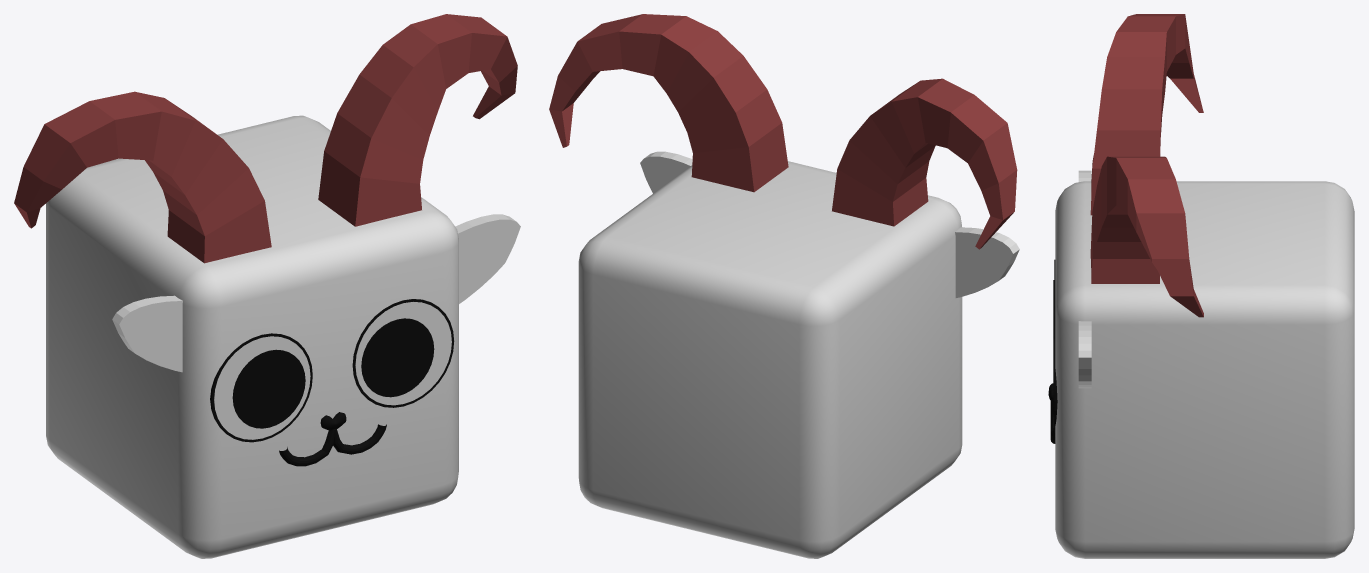
The model's file is SnowRam.fbx.
The picture shows the model from 3 angles, left to right: view 1: azimuth 30°, elevation 25°; view 2: azimuth 150°, elevation 25°; view 3: azimuth 270°, elevation 25°; orthographic projection. The views are drawn at different scales.
Parts seen in each view (by area): view 1: SnowRam; view 2: SnowRam; view 3: SnowRam.
Boxes of the visible parts, bbox=[...] form: SnowRam: bbox=[14, 14, 520, 558]; SnowRam: bbox=[549, 14, 1019, 558]; SnowRam: bbox=[1048, 14, 1354, 558].
Size of the model in its own units: 353 by 303 by 205.
